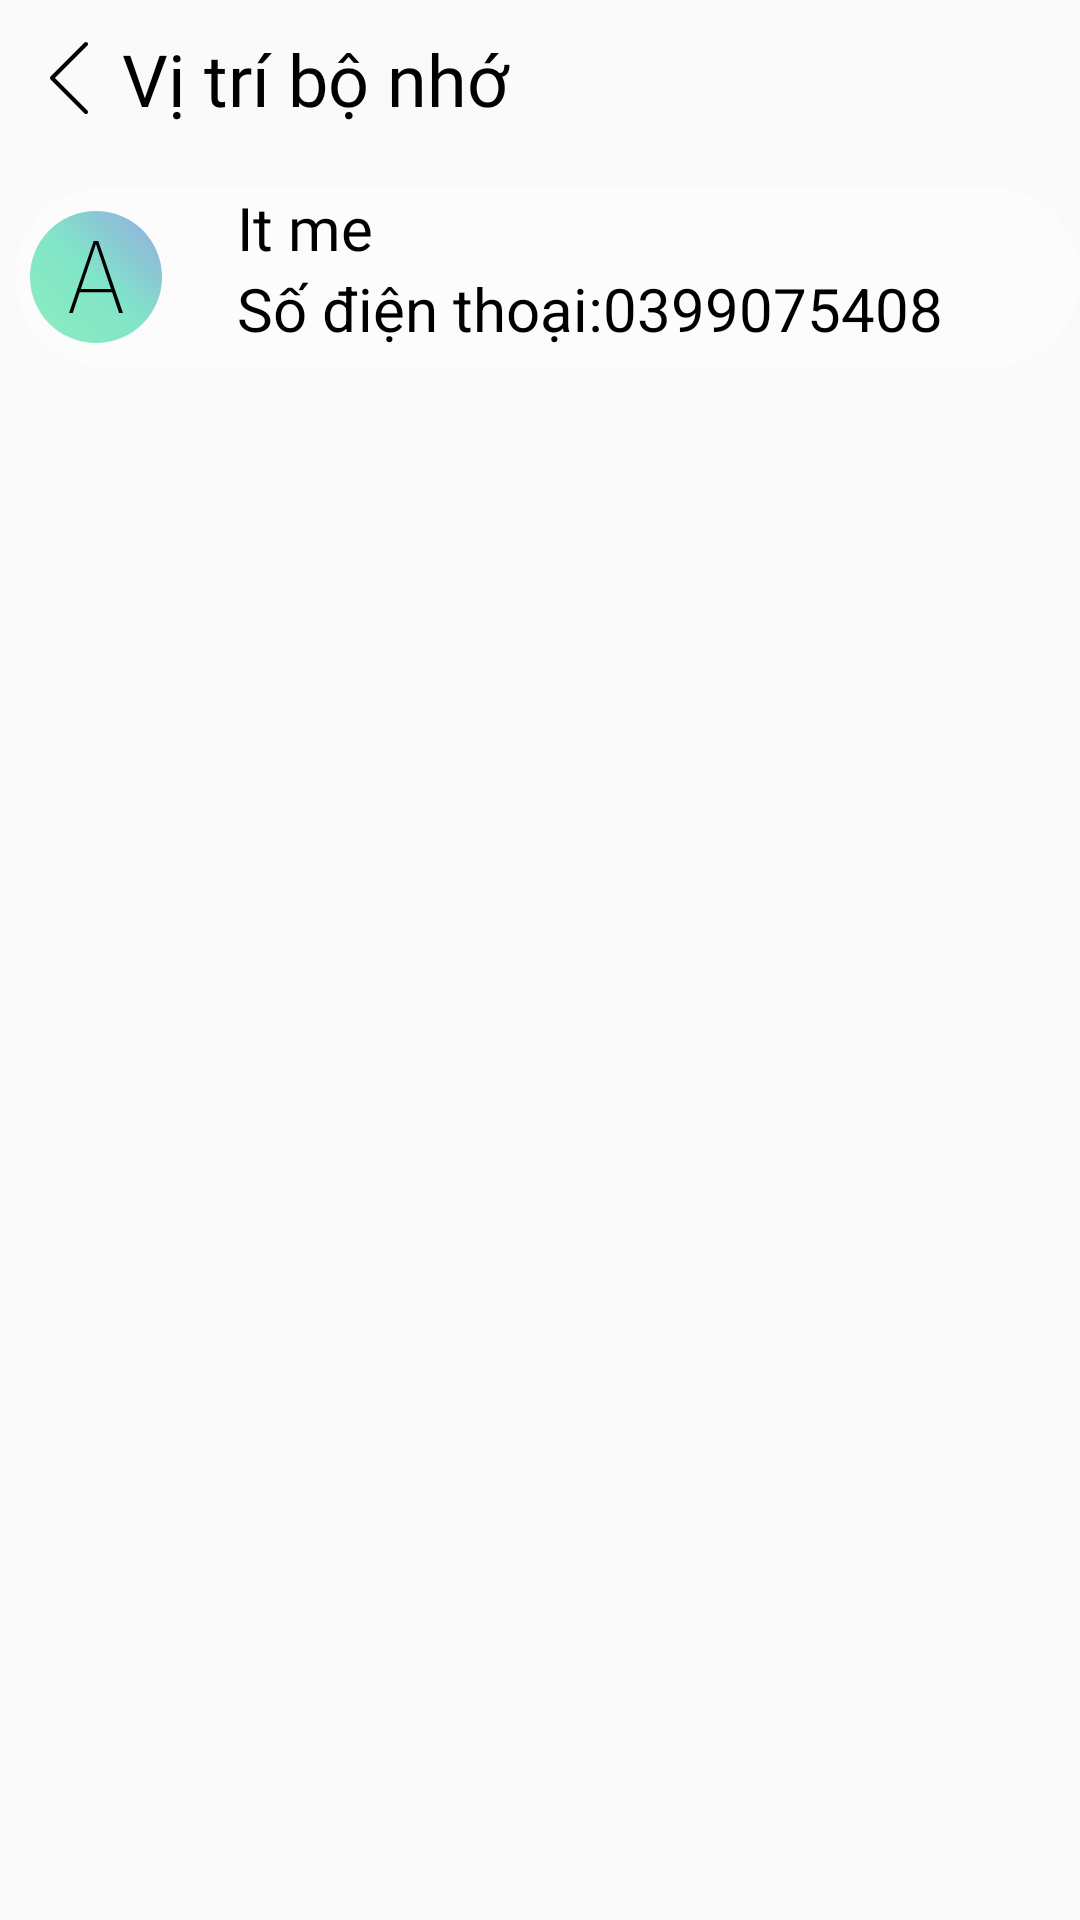

Icons on this 1080×1920 Android screen, each with its box as {"x1": x1, "y1": y1, "x2": x2, "y2": y2}:
backmsg: {"x1": 50, "y1": 42, "x2": 88, "y2": 114}
